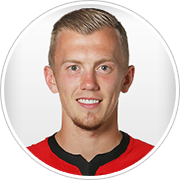smile: (75, 95, 103, 109)
